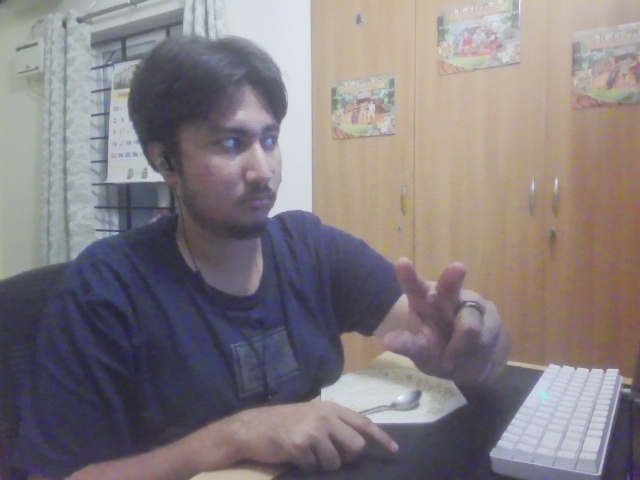no: (379, 252, 514, 400)
